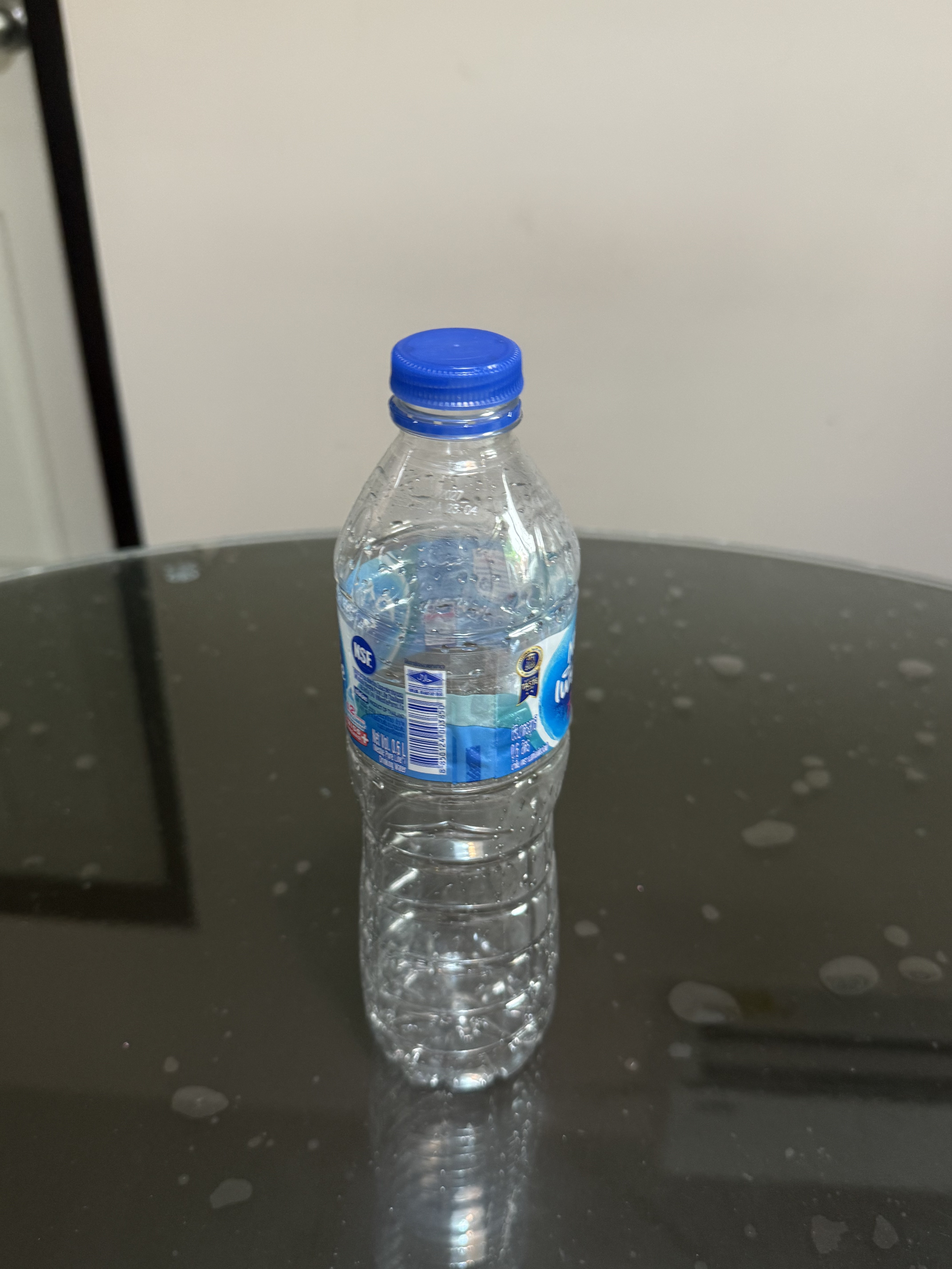half_cap: (385, 322, 526, 435)
